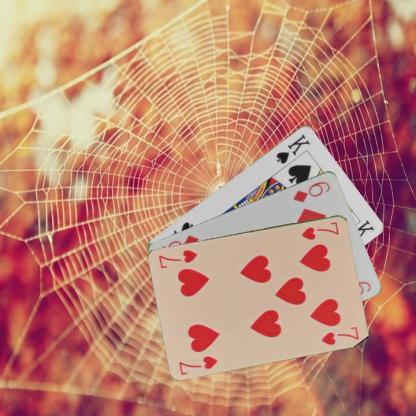6d: (290, 178, 332, 204)
7h: (176, 353, 219, 376), (300, 218, 340, 241)
Ks: (274, 130, 312, 165)
